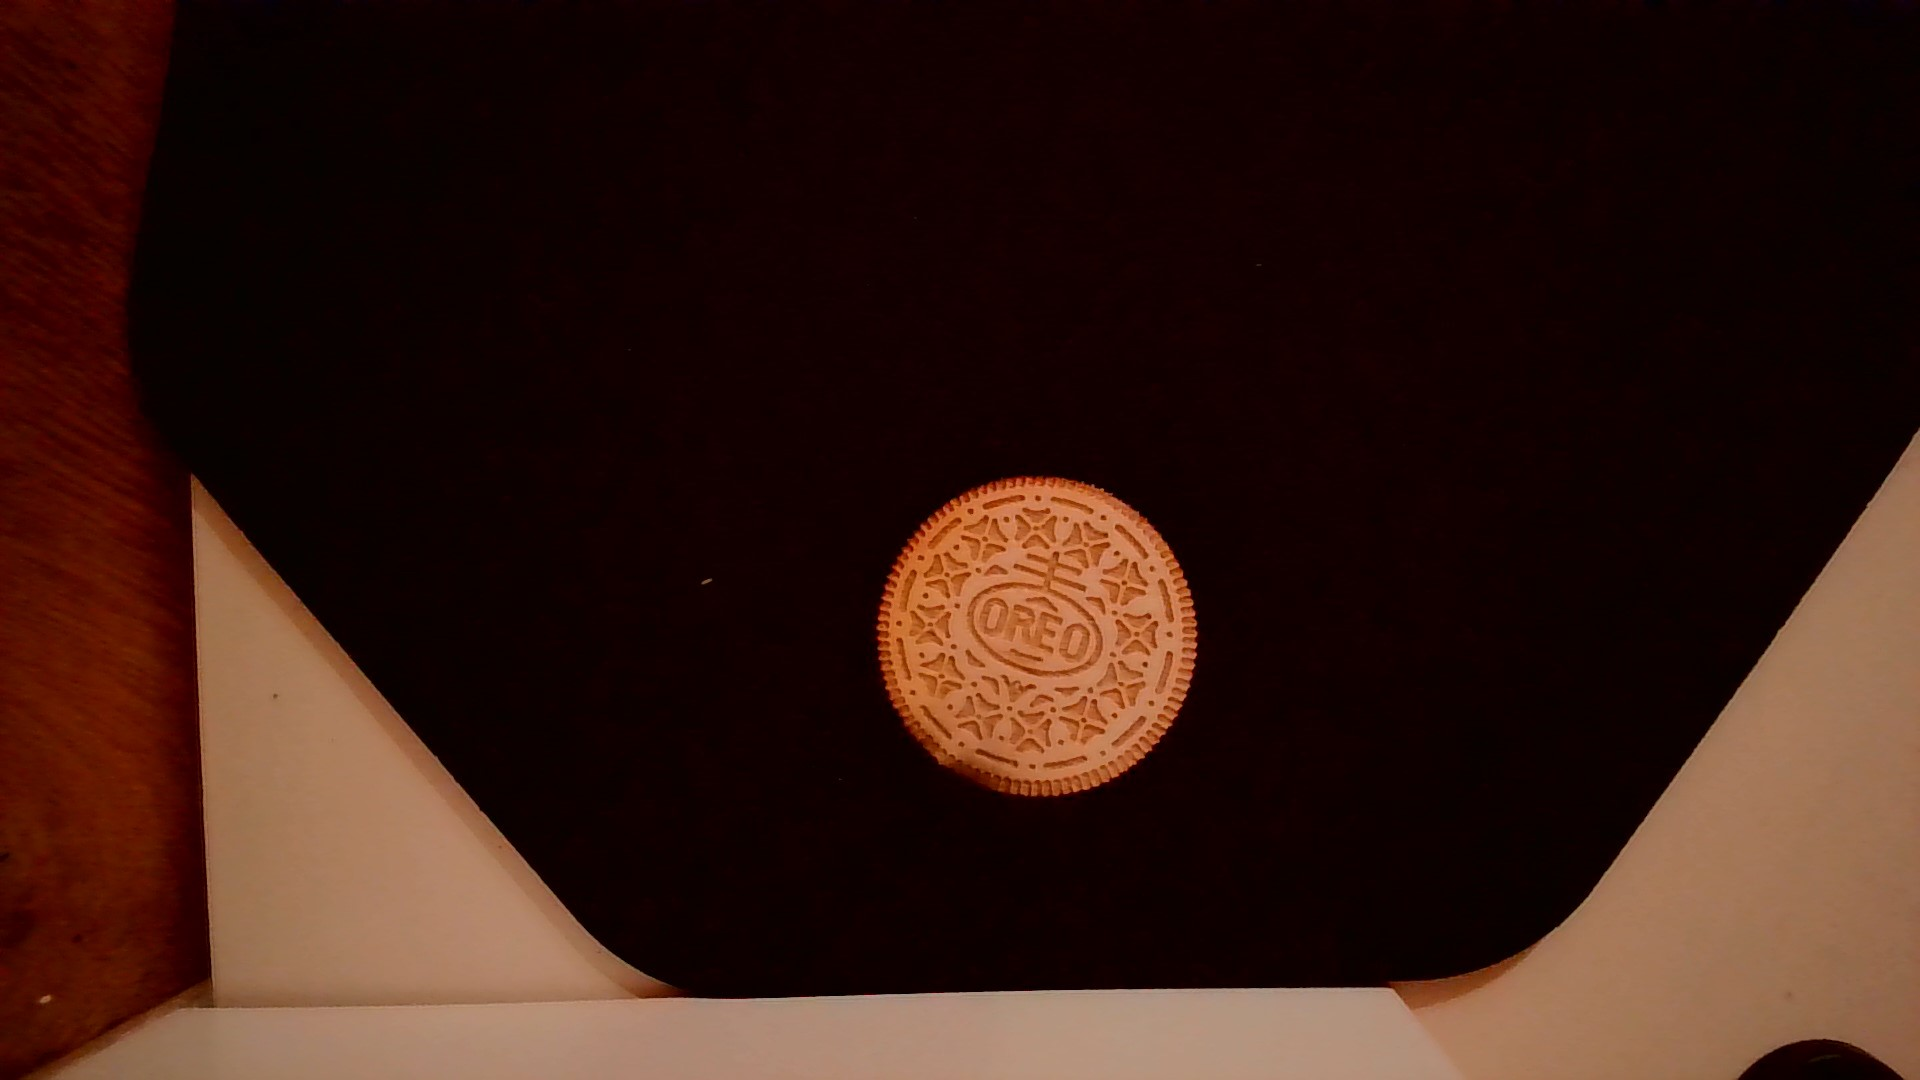Oréo: (868, 465, 1208, 812)
